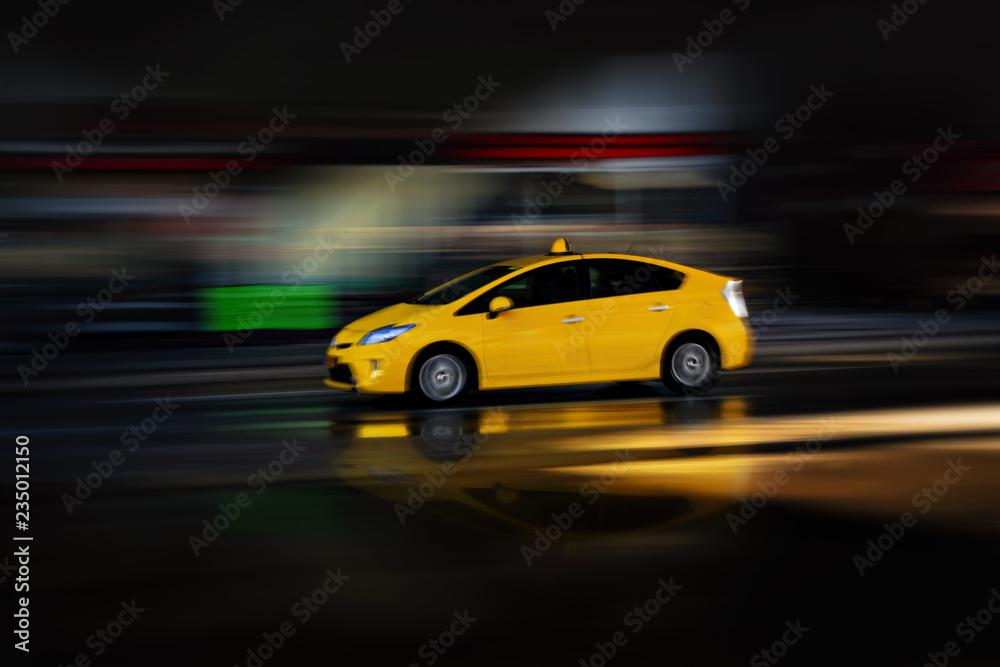taxi: (284, 208, 793, 424)
